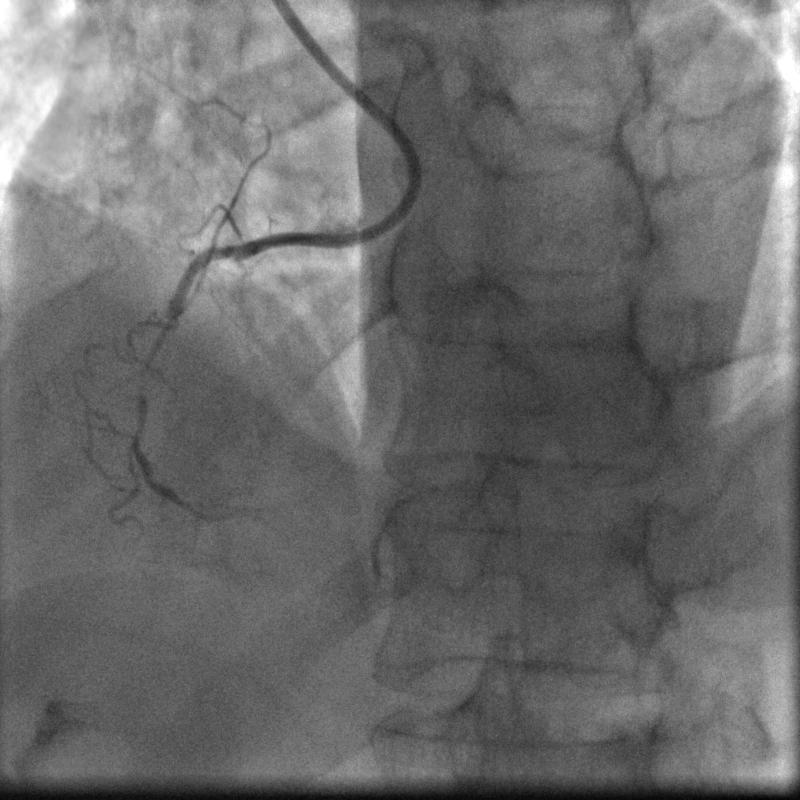Stenosis: (133, 306, 169, 418)
